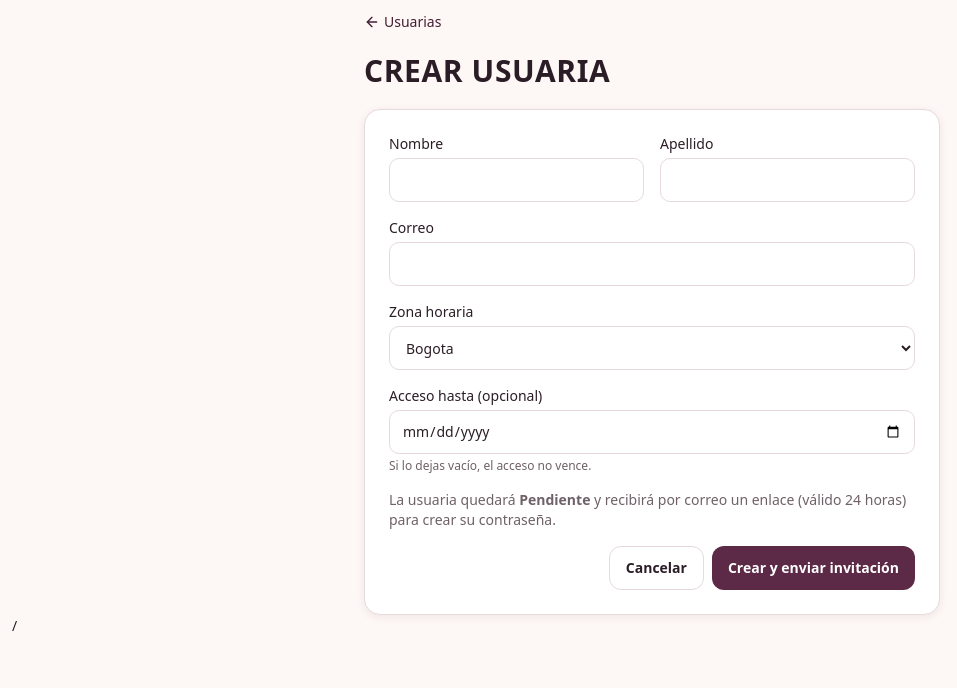
Test: CreateUserPage (HU-05) › valida campos obligatorios
The width and height of the screenshot is (957, 688).
Click the button "Crear y enviar invitación".
click(813, 568)  # box [712, 546, 915, 590]
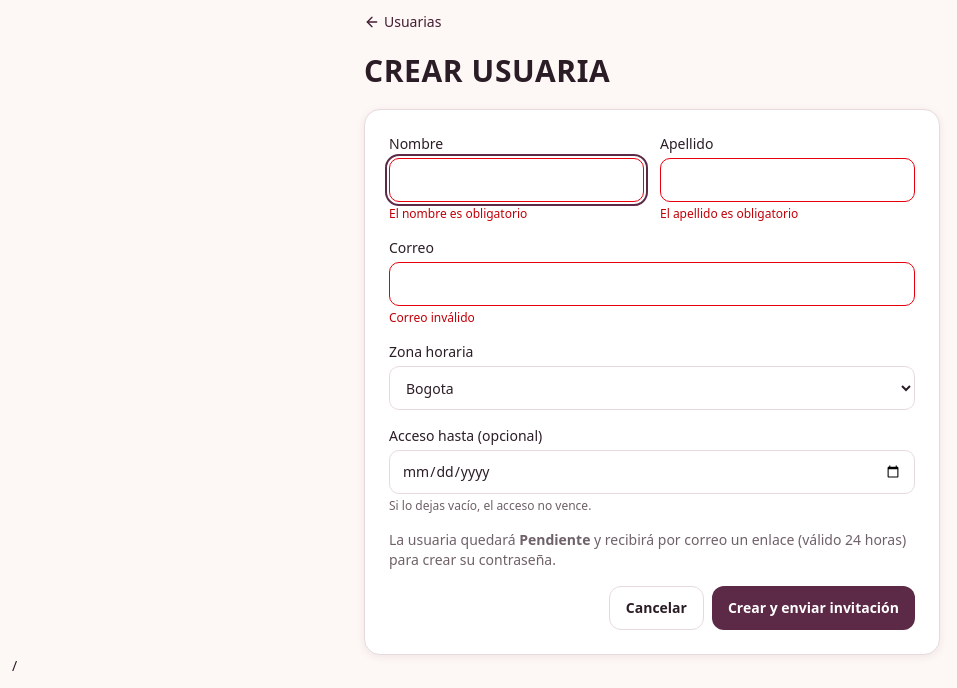
Expected: the text "El nombre es obligatorio" is shown, [389, 205, 527, 222]
Expected: the text "El apellido es obligatorio" is shown, [660, 205, 798, 222]
Expected: the text "Correo inválido" is shown, [389, 309, 475, 326]
